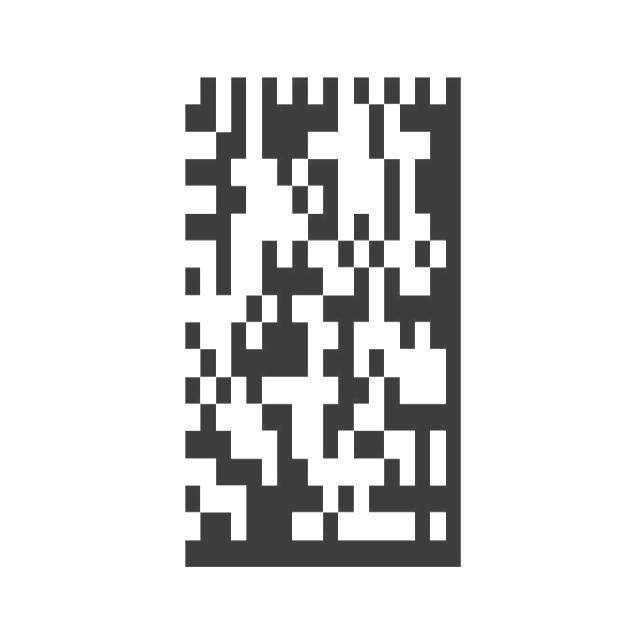Data-Matrix: (174, 60, 470, 596)
